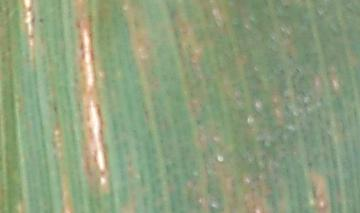tarspot: (28, 14, 37, 31), (26, 3, 34, 14), (25, 32, 36, 40), (51, 103, 59, 114), (193, 117, 201, 127), (37, 16, 45, 25), (293, 66, 301, 74), (282, 3, 290, 10), (287, 53, 293, 60)
